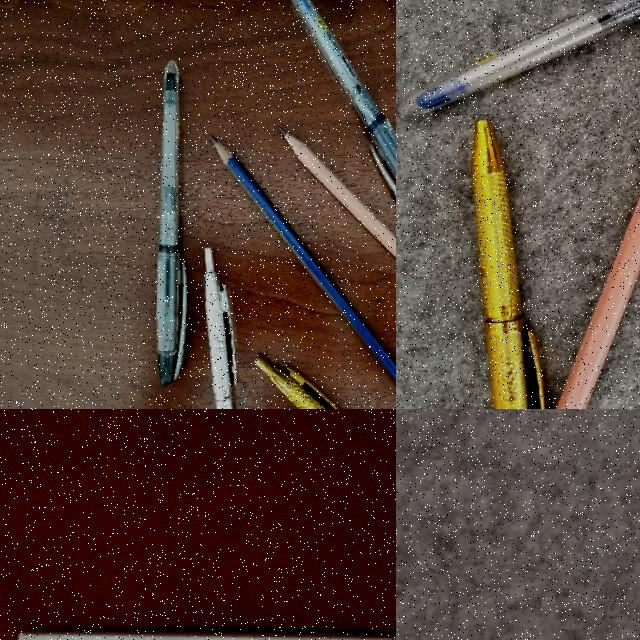pen: (396, 0, 640, 129), (286, 0, 396, 234), (151, 59, 189, 387)
pencil: (206, 131, 396, 383), (558, 196, 640, 409), (282, 129, 396, 256), (18, 632, 395, 639)
signature pen: (471, 117, 550, 409), (205, 251, 244, 409)
